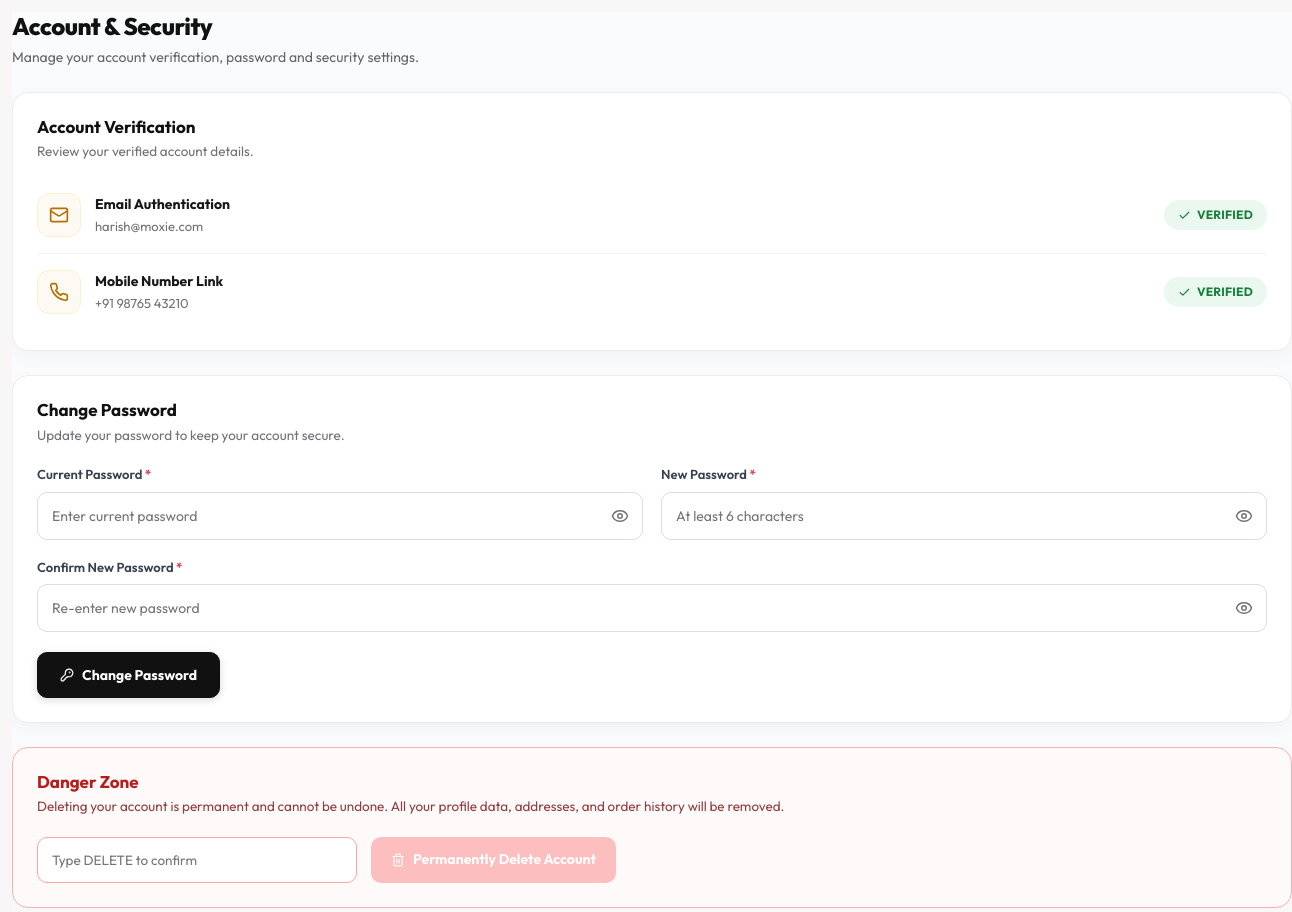
Test: AccountSecurity Component › danger zone: delete button is disabled until DELETE is typed
Expected: the button "Permanently Delete Account" is disabled, [371,837,616,883]
In the field with placeholder "Type DELETE to confirm": (197, 860) [37,837,357,883], type "delete"
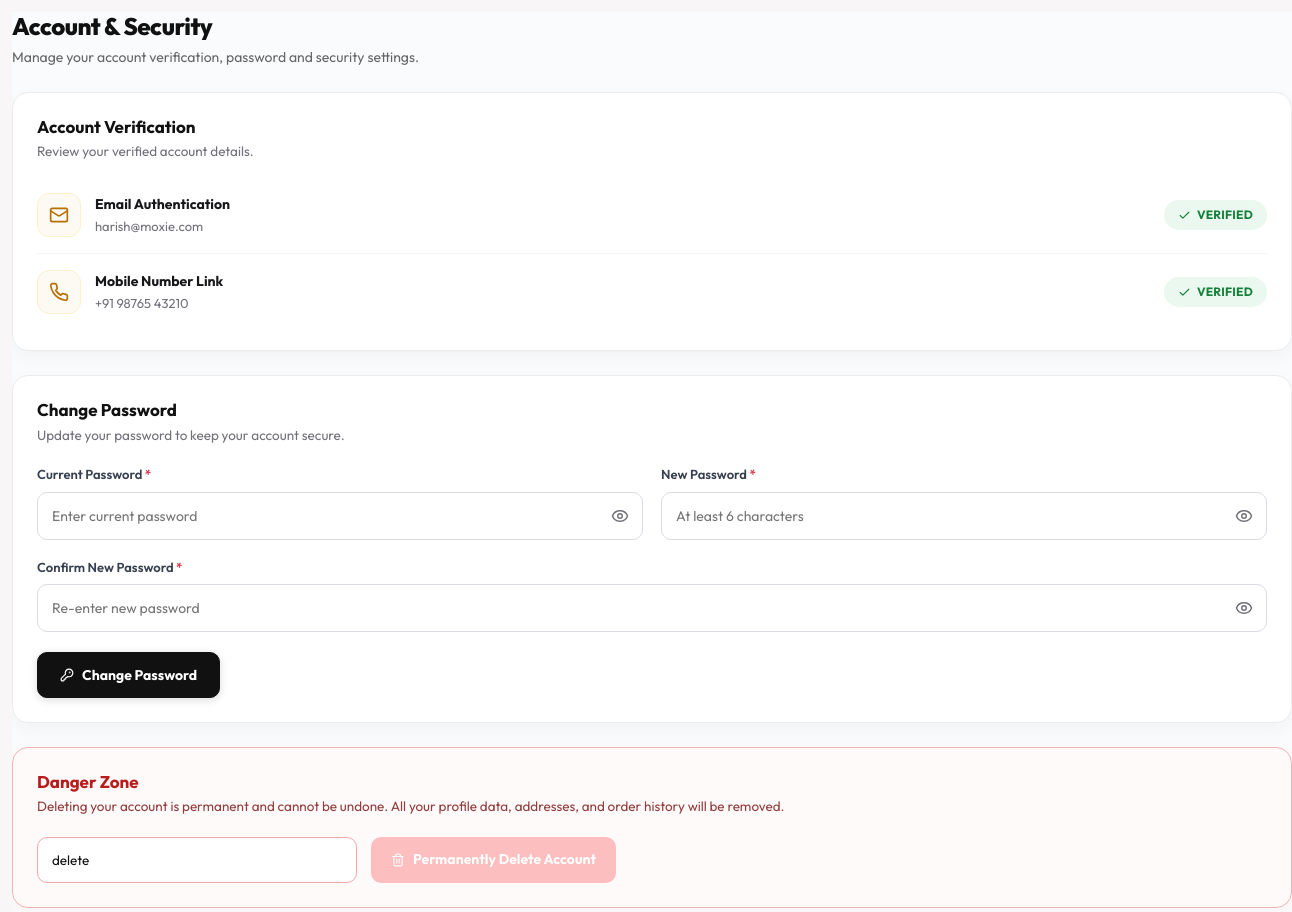
Expected: the button "Permanently Delete Account" is disabled, [371,837,616,883]
Replace the text in the field with placeholder "Type DELETE to confirm" with "DELETE": (197, 860) [37,837,357,883]
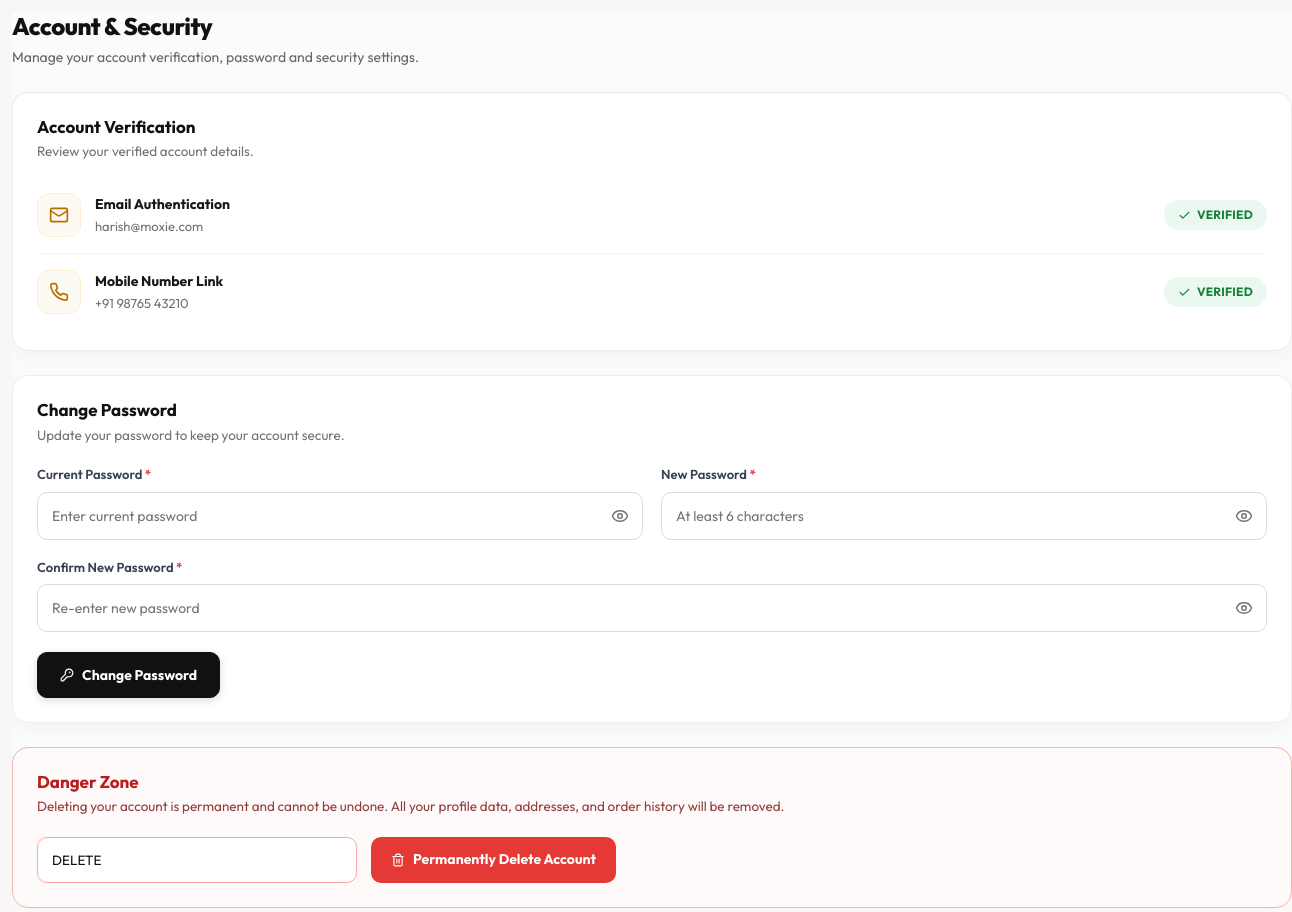
Expected: the button "Permanently Delete Account" is enabled, [371,837,616,883]
